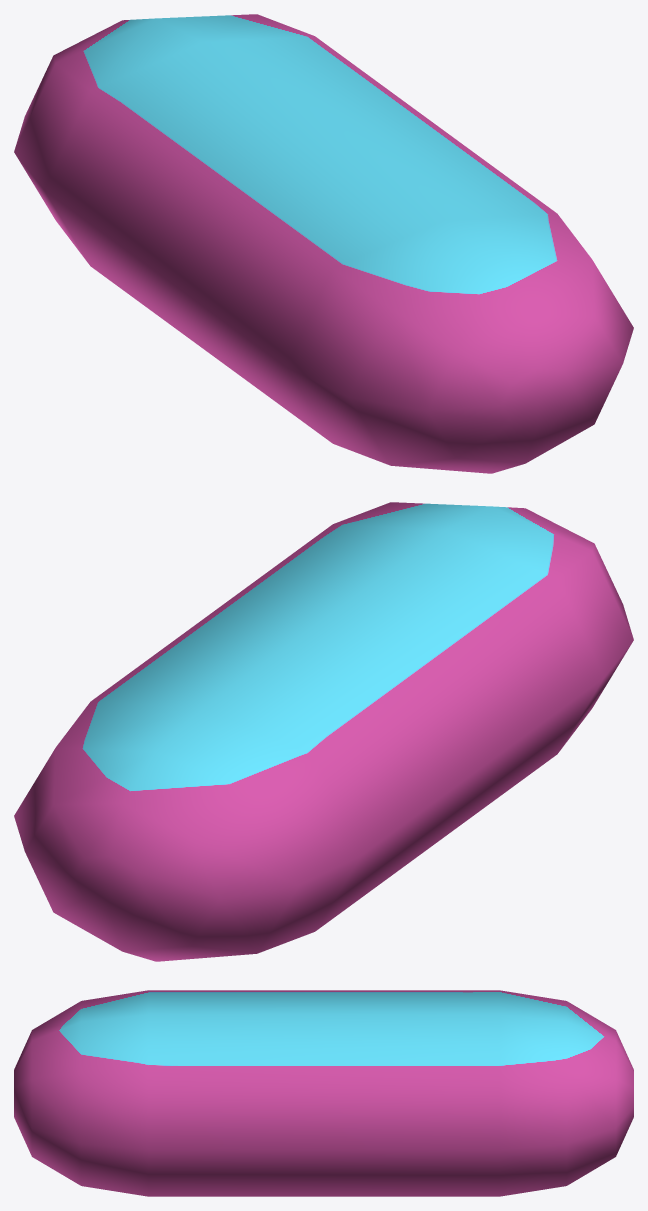
The model's file is Body.fbx.
The picture shows the model from 3 angles, top to bottom: view 1: azimuth 30°, elevation 25°; view 2: azimuth 150°, elevation 25°; view 3: azimuth 270°, elevation 25°; orthographic projection. The views are drawn at different scales.
Visible parts, largest first — view 1: Body_2Color; view 2: Body_2Color; view 3: Body_2Color.
Boxes of the visible parts, x1,y1,x2,y2 form: Body_2Color: (14, 14, 633, 473); Body_2Color: (14, 502, 633, 961); Body_2Color: (14, 990, 633, 1196).
Bounding box in the file's own units: 95.79 × 67.05 × 224.
